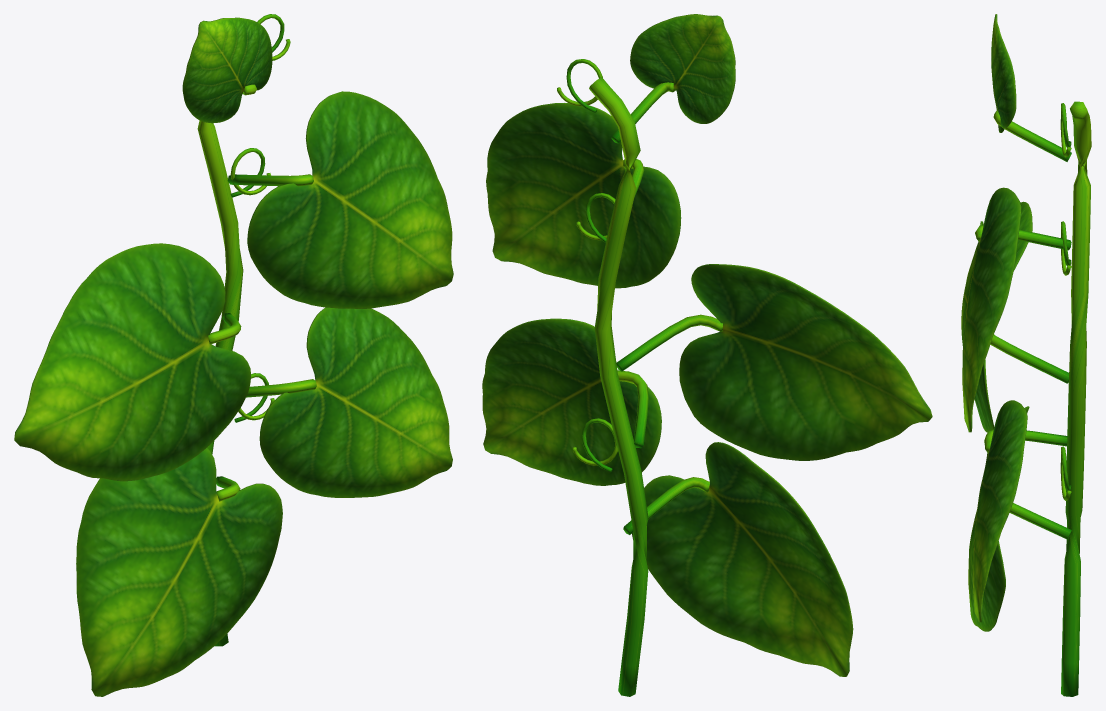
Rendered from NP_Kiwi_Young.fbx.
The picture shows the model from 3 angles, left to right: view 1: azimuth 30°, elevation 25°; view 2: azimuth 150°, elevation 25°; view 3: azimuth 270°, elevation 25°; orthographic projection.
Parts seen in each view (by area): view 1: NP_Kiwi_Young; view 2: NP_Kiwi_Young; view 3: NP_Kiwi_Young.
Boxes of the visible parts, x1,y1,x2,y2 form: NP_Kiwi_Young: [14, 14, 453, 696]; NP_Kiwi_Young: [482, 14, 932, 696]; NP_Kiwi_Young: [961, 14, 1091, 696].
Bounding box in the file's own units: 57.45 × 82.08 × 14.8.
